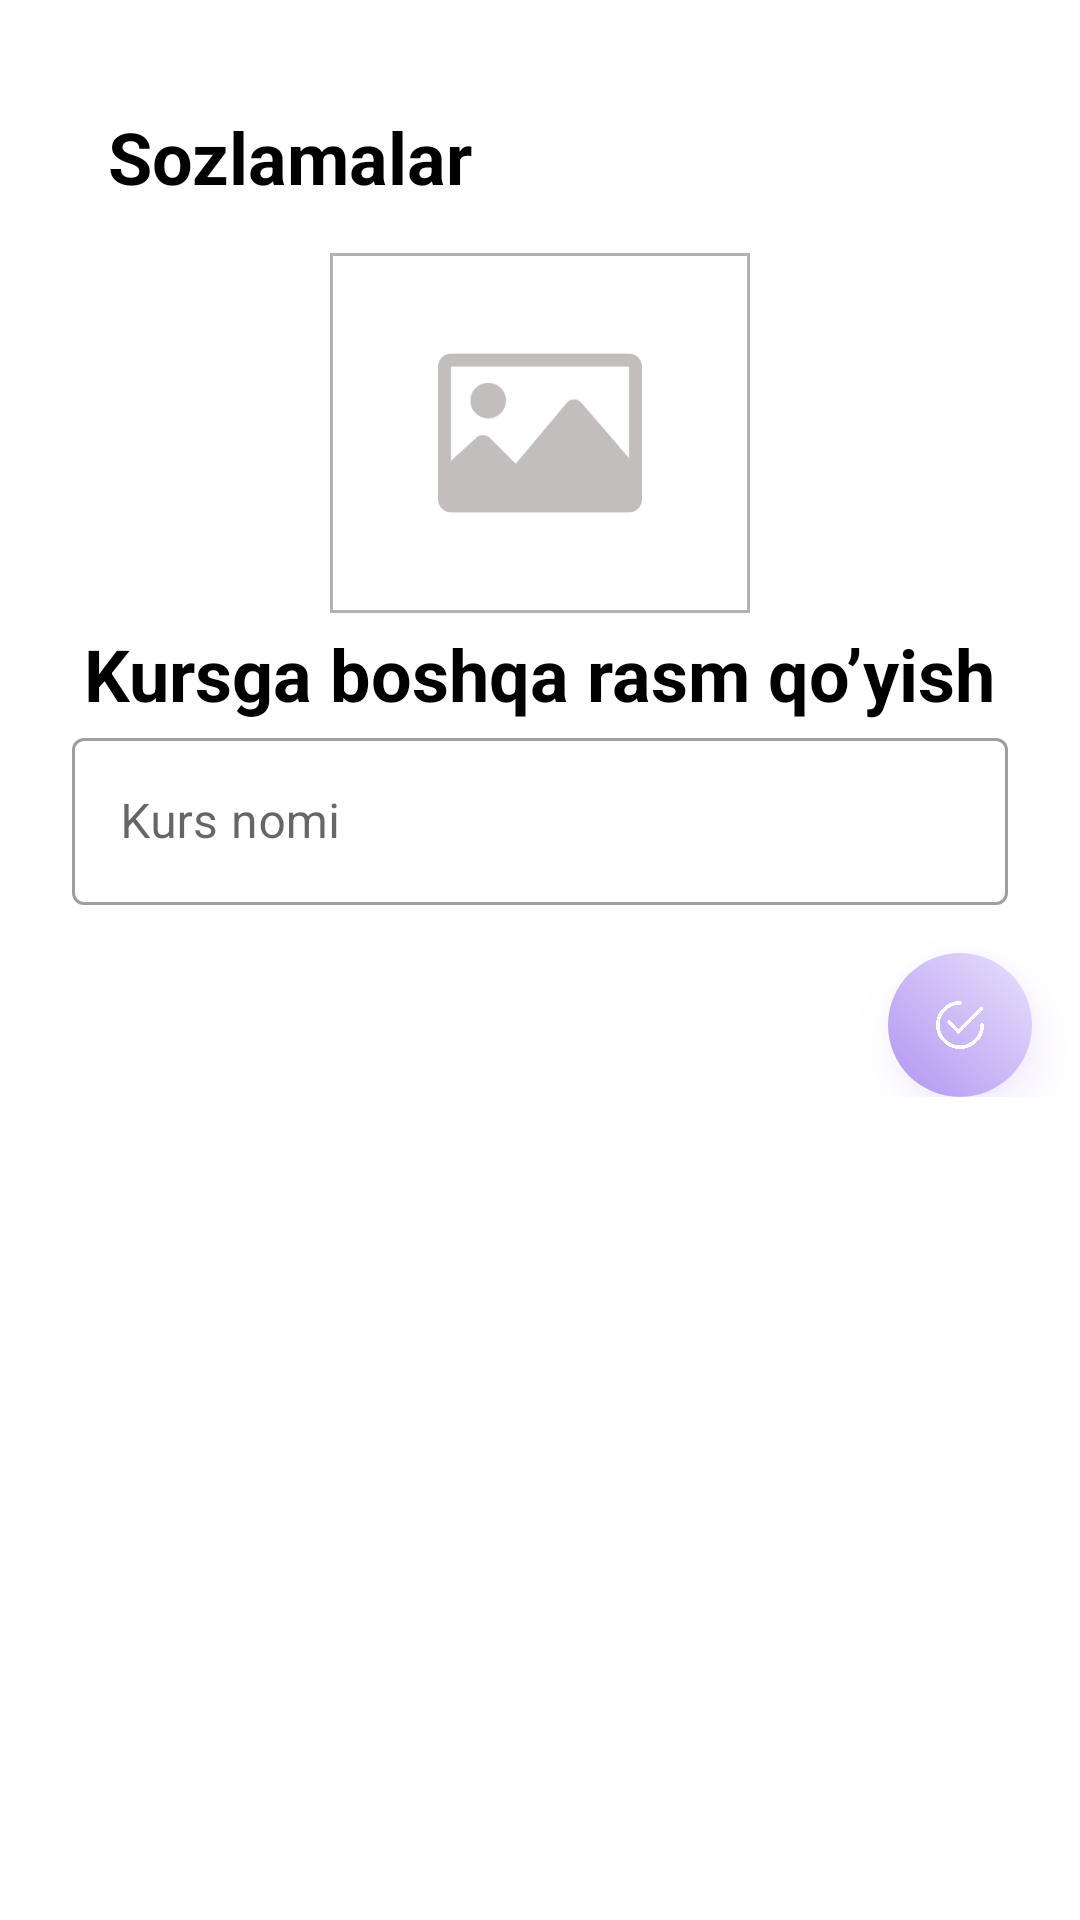

Icons on this 1080 x 1920 Android screen, each with its box as (x1, y1, x2, y2):
checked: (888, 953, 1032, 1097)
photo: (438, 353, 642, 513)
